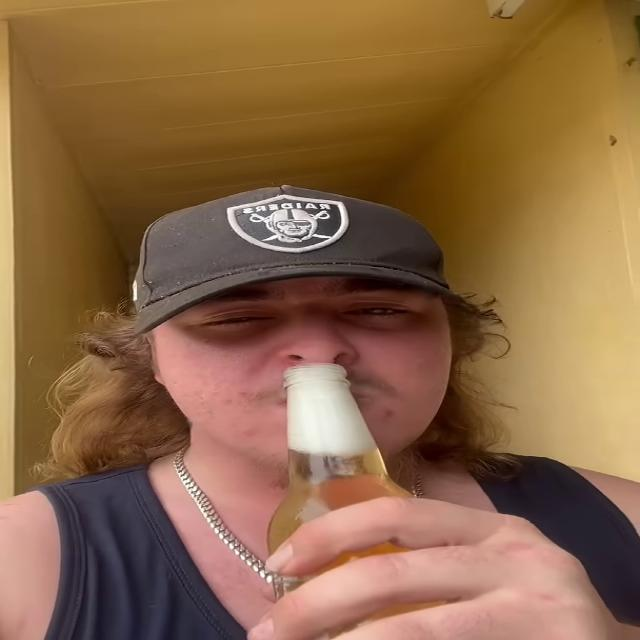Bottle: (224, 487, 640, 640), (266, 367, 465, 639)
Mouth: (259, 382, 370, 411)
